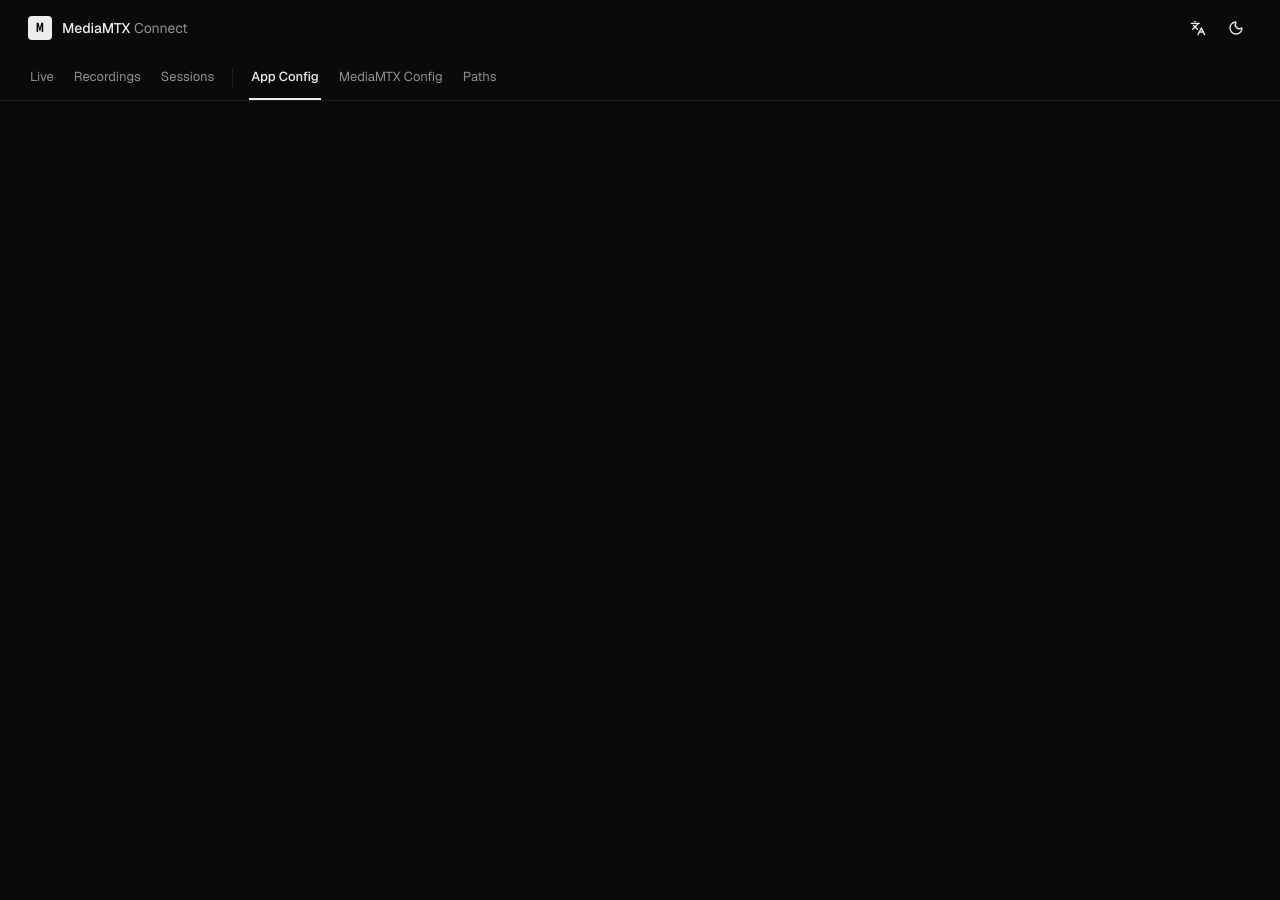
locale switching › leaves the current route alone
Click the button named "Switch language". click: [1198, 28]
box: [1182,12,1214,44]
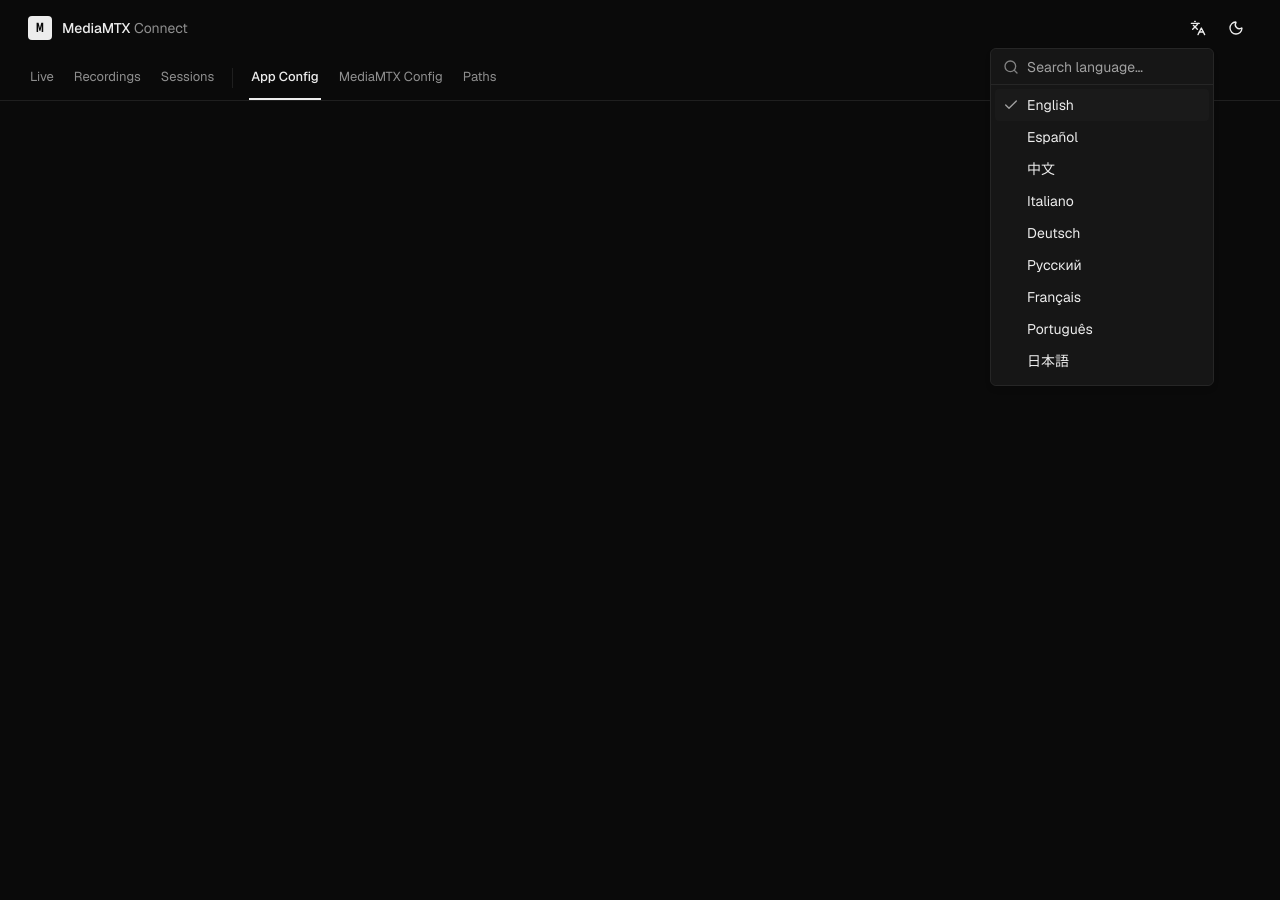
Click the option "Español". click: [1052, 137]
box: [1027,128,1078,146]
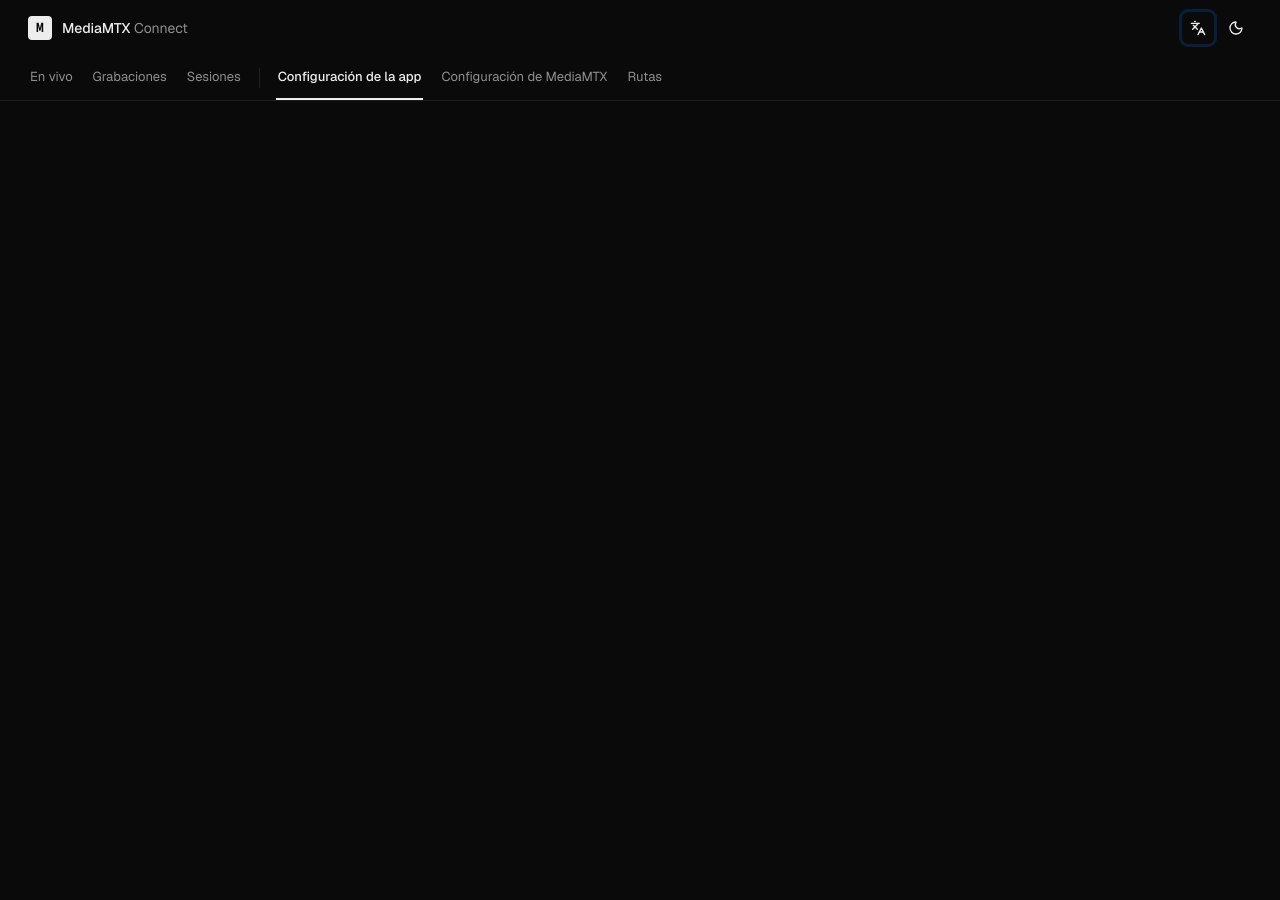
Check: the link "Grabaciones" is shown, box [93,68,167,85]
